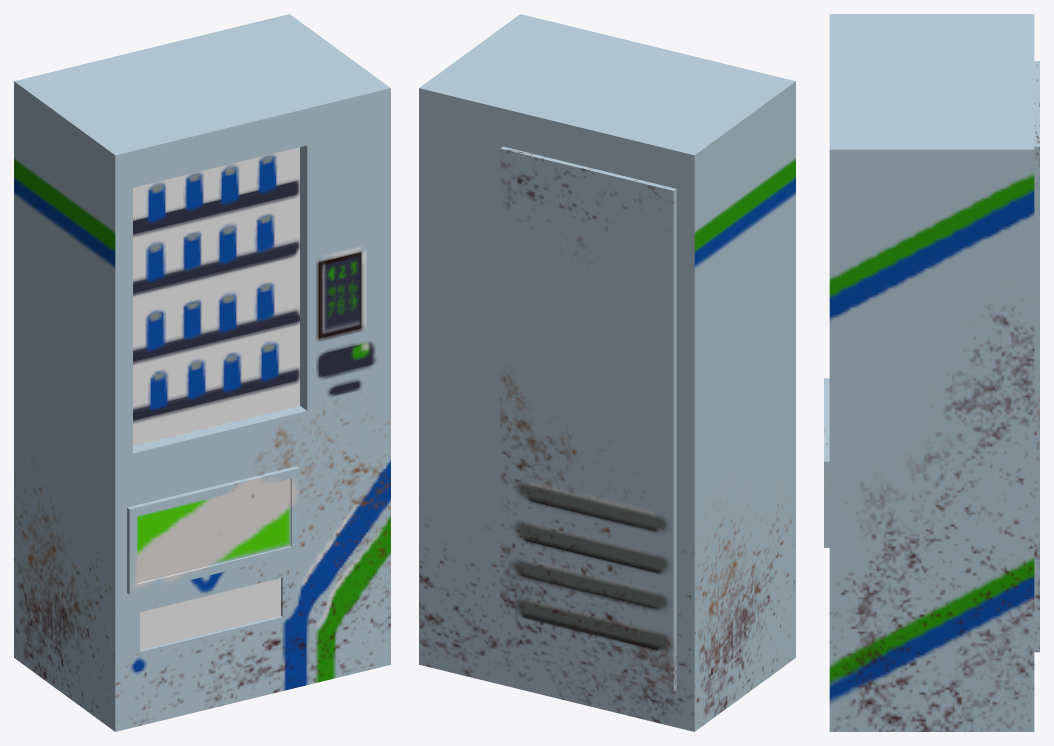
Rendered from MaquinaDeVenda.fbx.
3 views of the same model, side by side, from view 1: azimuth 30°, elevation 25°; view 2: azimuth 150°, elevation 25°; view 3: azimuth 270°, elevation 25° (orthographic).
Parts seen in each view (by area): view 1: MaquinaDeVenda; view 2: MaquinaDeVenda; view 3: MaquinaDeVenda.
Part boxes in pixels (x1,y1,x2,y2): MaquinaDeVenda: [14, 14, 390, 731]; MaquinaDeVenda: [419, 14, 795, 731]; MaquinaDeVenda: [824, 14, 1039, 731].
Size of the model in its own units: 233 by 466 by 156.
